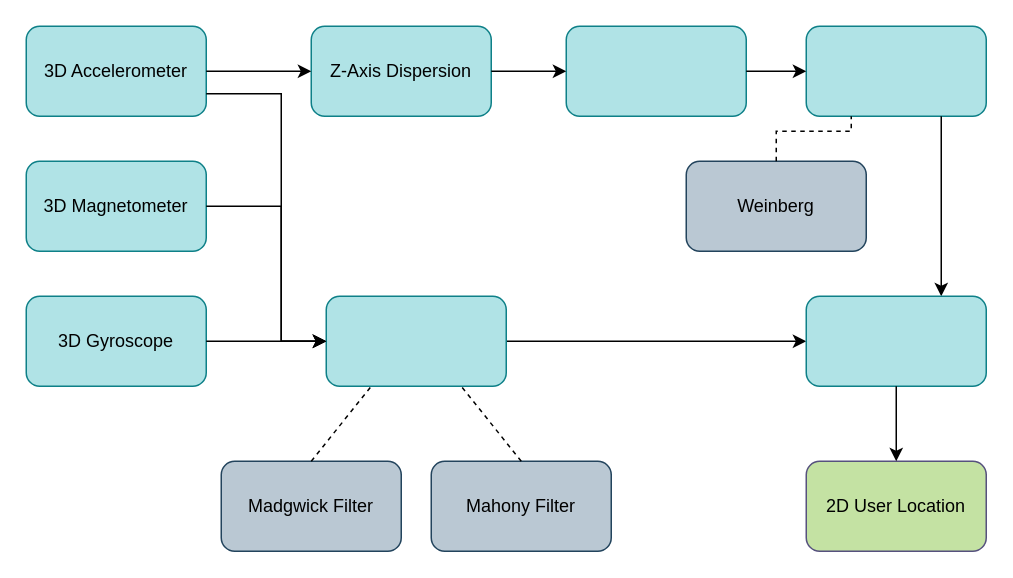
Some shapes in this 1013 by 578 pixel diagram are drawn without their labels. The shapes that lost their labels are listed below. From the top down, each one's box as (x1, y1, x2, y2) in pixels, then its label:
(565, 25, 746, 116): Step Detection
(805, 25, 986, 116): Step Length Estimation
(325, 295, 506, 386): Heading Estimation
(805, 295, 986, 386): PDR Algorithm
